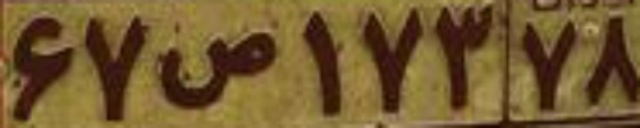1: (295, 7, 350, 115)
2: (435, 3, 488, 112)
6: (1, 11, 74, 123)
7: (78, 10, 151, 126), (361, 4, 424, 114), (516, 17, 575, 111)
8: (582, 12, 638, 109)
saat: (153, 28, 284, 109)
